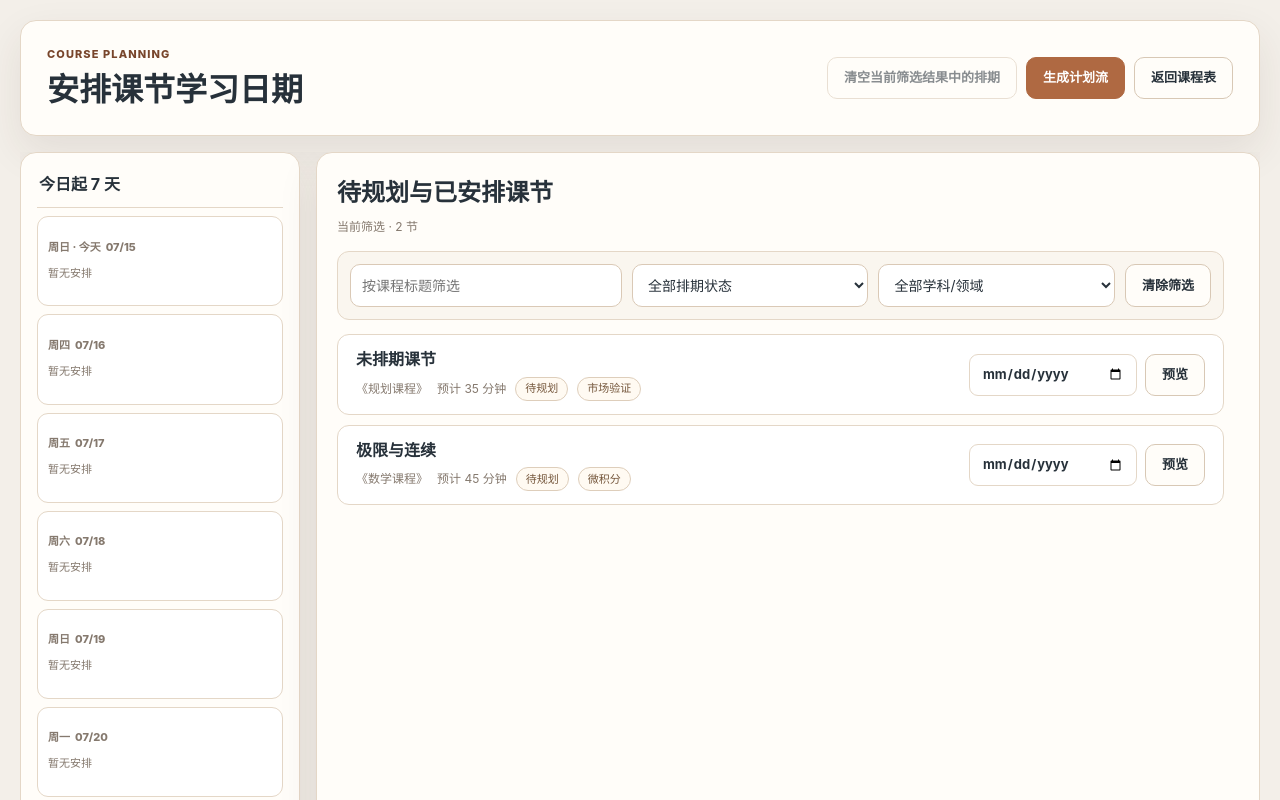
Test: PlanningWorkspaceView date scheduling › builds the discipline filter from confirmed course discipline tags
Select "数学" in the dropdown named "学科/领域" at (997, 286), box top-left (878, 264), bottom-right (1115, 307)
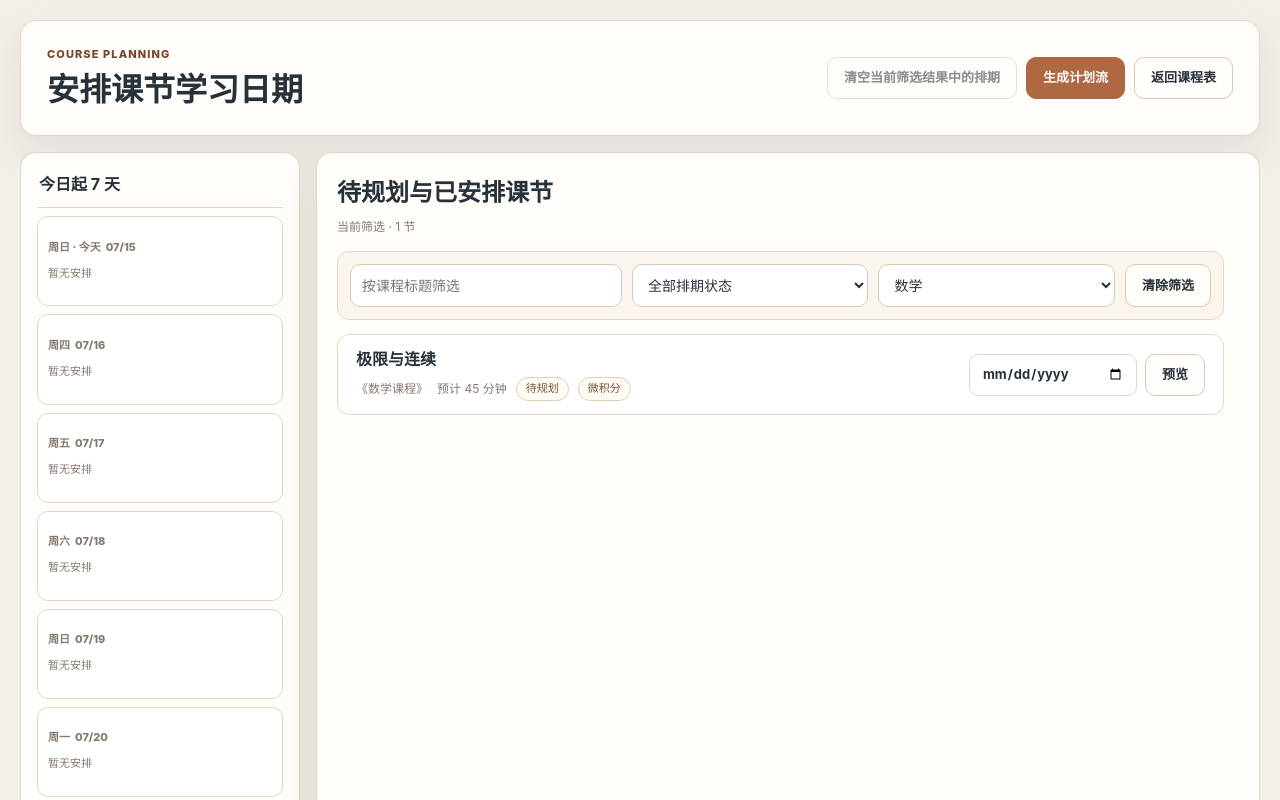
Expected: the heading "极限与连续" is shown, top-left (356, 349), bottom-right (436, 369)
Result: the heading "未排期课节" is gone
